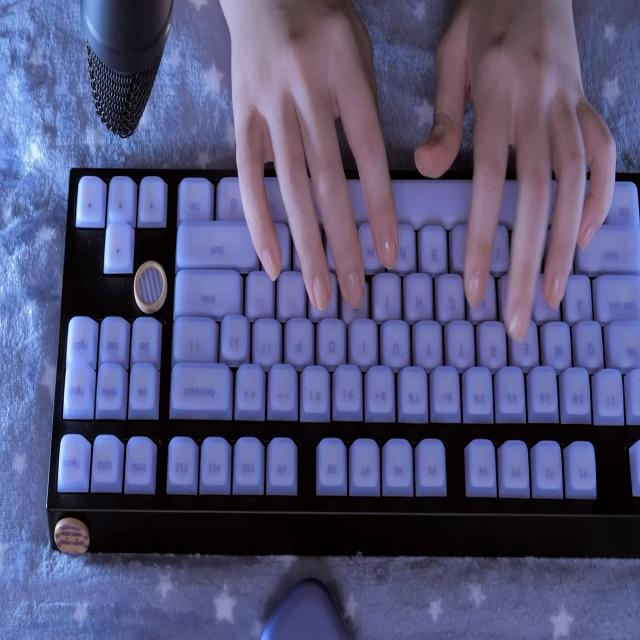keyboard-with-hands: (49, 173, 640, 513)
